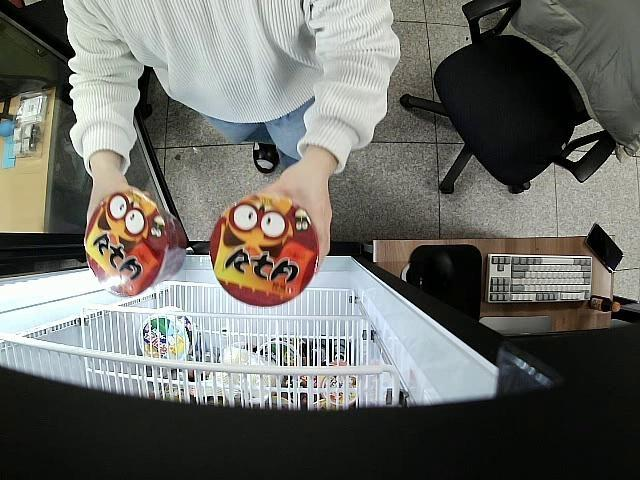05_nuguri_L: (210, 194, 319, 307), (84, 191, 186, 299)
